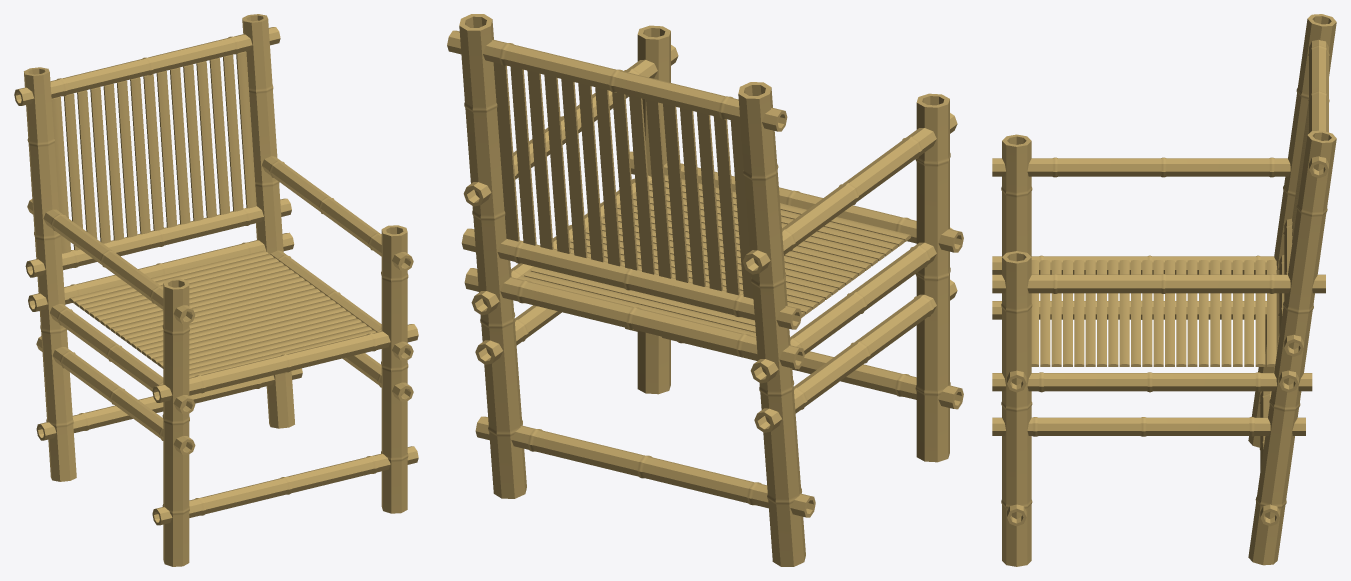
Rendered from ghe_tre_banh.mid.glb.
3 views of the same model, side by side, from view 1: azimuth 30°, elevation 25°; view 2: azimuth 150°, elevation 25°; view 3: azimuth 270°, elevation 25° (orthographic). The views are drawn at different scales.
Parts seen in each view (by area): view 1: ghe_tre_banh; view 2: ghe_tre_banh; view 3: ghe_tre_banh.
Boxes of the visible parts, x1,y1,x2,y2 form: ghe_tre_banh: (14, 14, 418, 566); ghe_tre_banh: (447, 14, 963, 566); ghe_tre_banh: (992, 14, 1336, 566).
Size of the model in its own units: 0.66 by 0.9538 by 0.6998.
